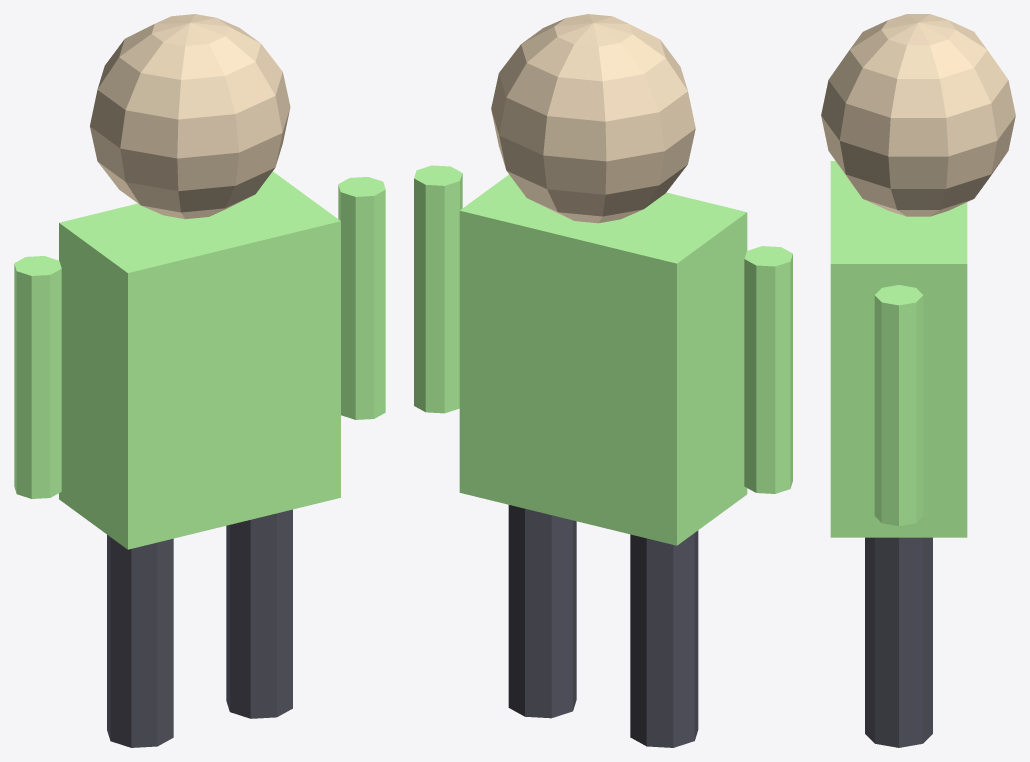
3 renders of one model, left to right at view 1: azimuth 30°, elevation 25°; view 2: azimuth 150°, elevation 25°; view 3: azimuth 270°, elevation 25°, orthographic. The views are drawn at different scales.
Parts seen in each view (by area): view 1: goblin; view 2: goblin; view 3: goblin.
Boxes of the visible parts, <box> form: goblin: <box>14,14,385,747</box>; goblin: <box>414,14,792,747</box>; goblin: <box>821,14,1015,747</box>.
Bounding box in the file's own units: 0.86 × 1.55 × 0.4.
